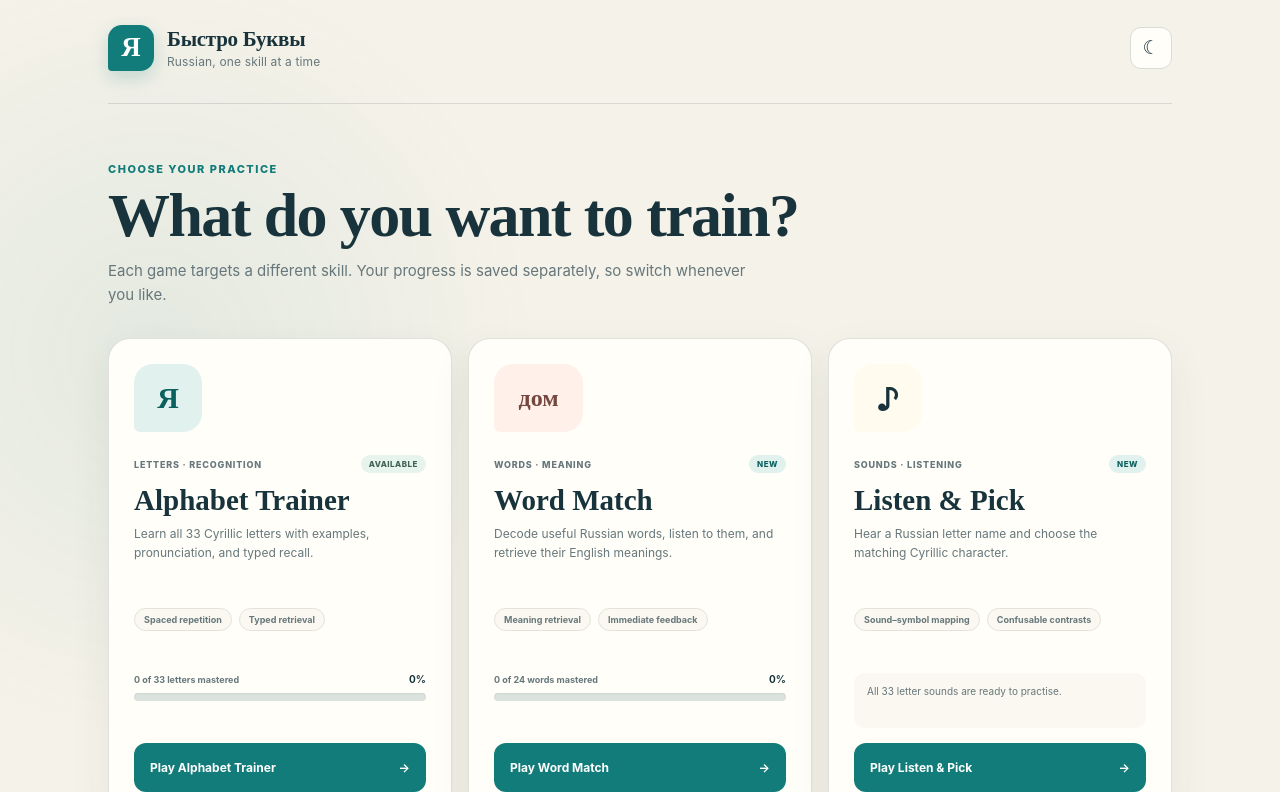
Test: language games › starts on a game home screen and opens Word Match
This screenshot has width=1280, height=792.
Check: the heading "What do you want to train?" is shown, box left=108, top=184, right=828, bottom=247
Check: the button "Play Alphabet Trainer →" is shown, box left=134, top=743, right=426, bottom=791
Click the button "Play Word Match →". click: (560, 768)
box: left=494, top=743, right=786, bottom=791
(page scrolled)
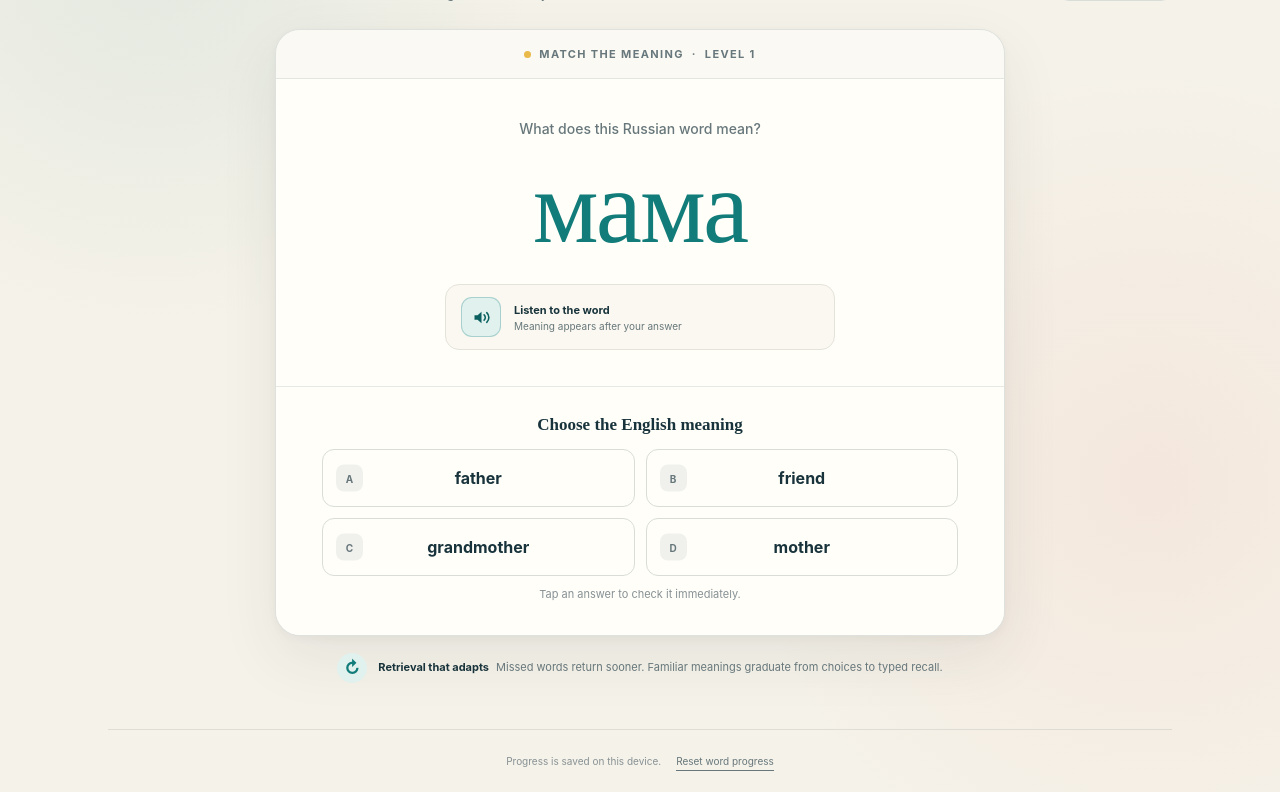
Check: the text "mama" is not shown
Check: the heading named "Russian word мама" is shown, box left=533, top=149, right=747, bottom=264
Click the button named "Choose mother". click: (802, 547)
box: left=646, top=518, right=958, bottom=576
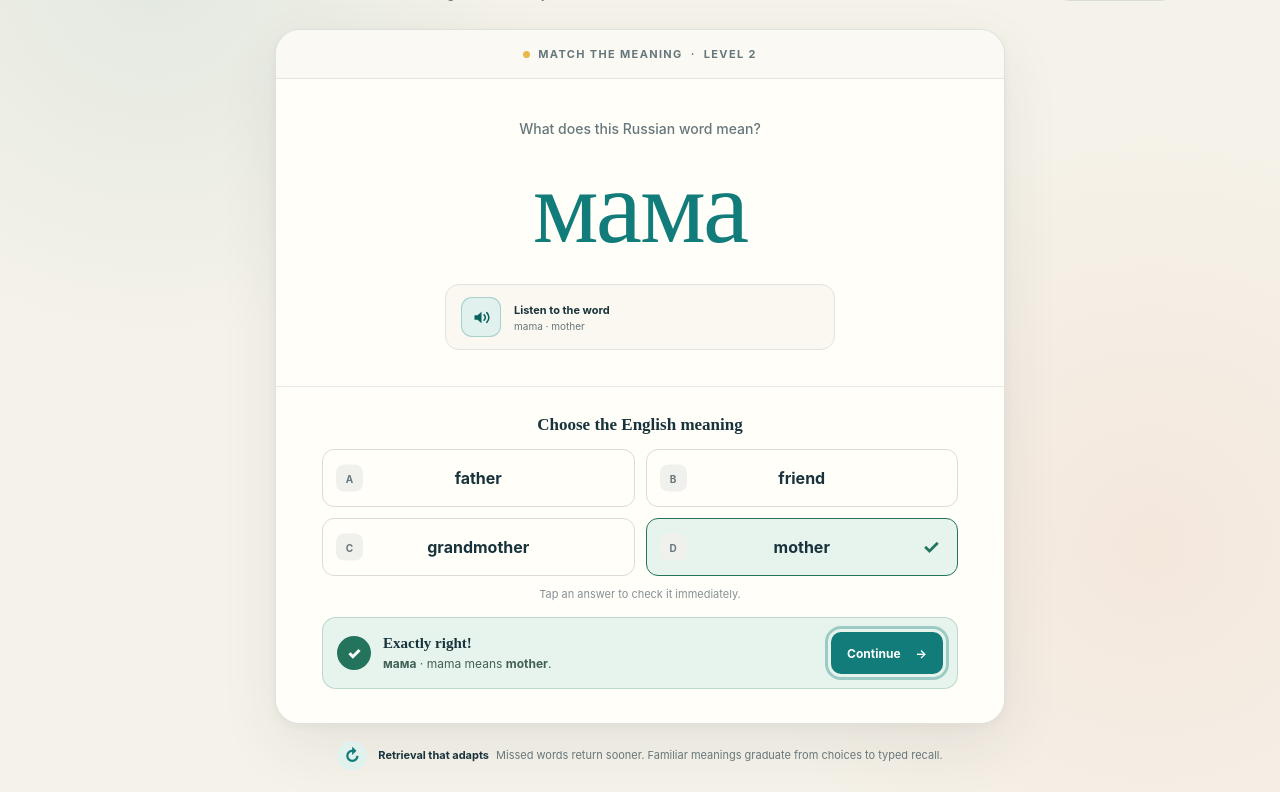
Check: the text "Exactly right!" is shown, box left=383, top=635, right=472, bottom=651
Check: the message shows "mama means mother", box left=322, top=617, right=958, bottom=689
